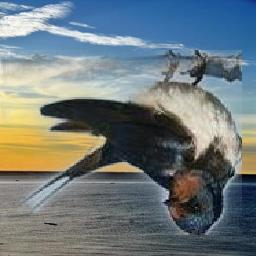Swallow: (2, 51, 243, 236)
